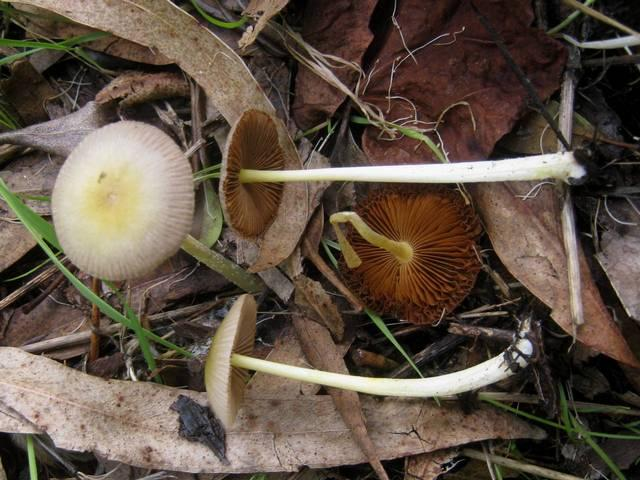Edible Mushroom: (50, 118, 195, 282), (328, 184, 484, 326), (214, 94, 358, 247)
